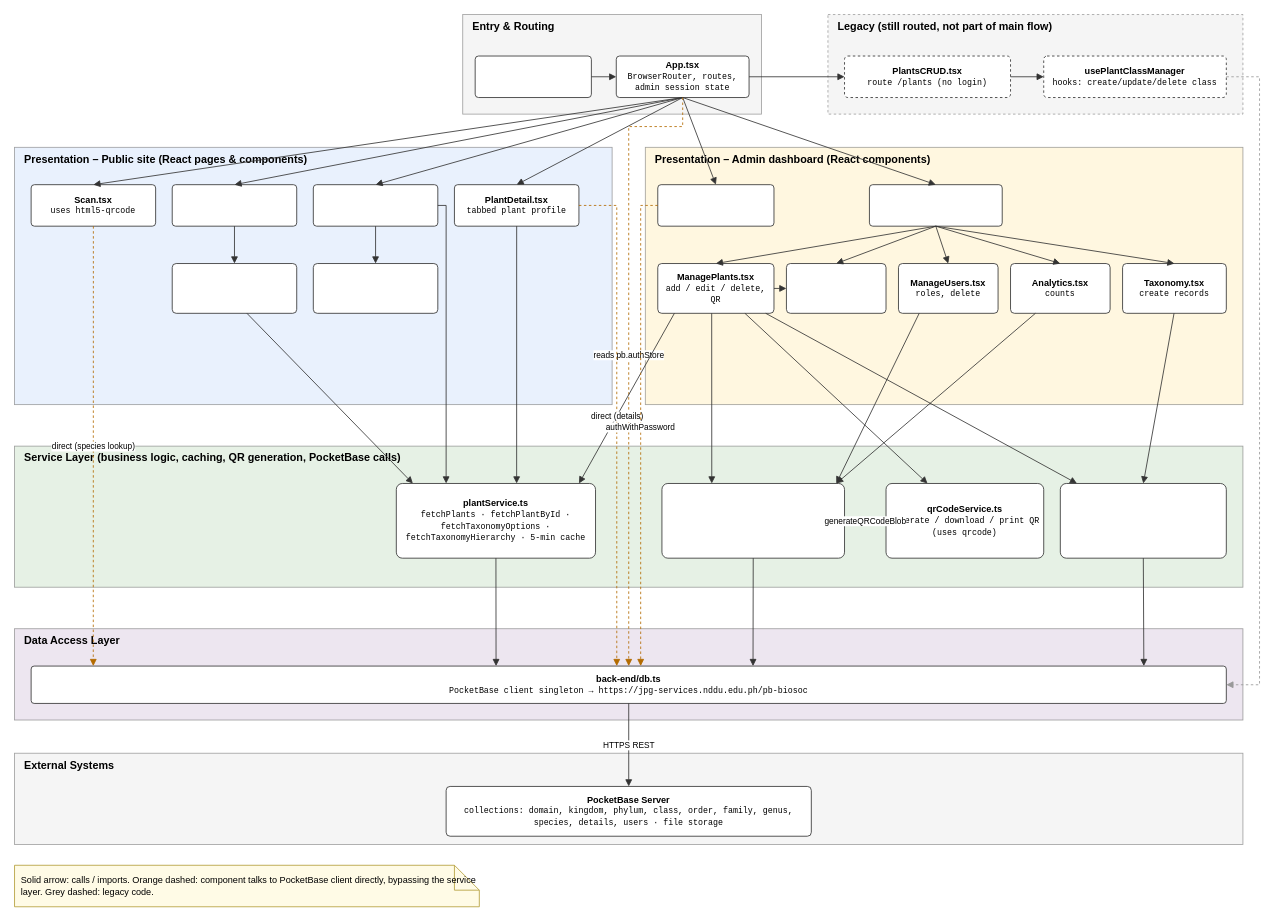
Some shapes in this 1281 by 921 pixel diagram are drawn without their labels. Here are the shapes that lost their labels. From the top down, the centre of each, then its label:
the point at 532,76: main.tsx renders <App/>
the point at 234,205: Home.tsx +Navbar, About, Why, Location, Partners
the point at 375,205: DiscoverPlants.tsx search, filter, sort
the point at 715,205: AdminLogin.tsx email + password
the point at 935,205: AdminDashboard.tsx tab navigation
the point at 234,288: Hero + SearchDropdown homepage plant search
the point at 375,288: SearchBar, Filters, PlantsGrid directory UI
the point at 836,288: QRModal, ConfirmationModal dialogs
the point at 753,520: adminService.ts plant CRUD + details sync · users · analytics
the point at 1142,520: useFetchTaxonomy.ts fetch + create taxonomy records
